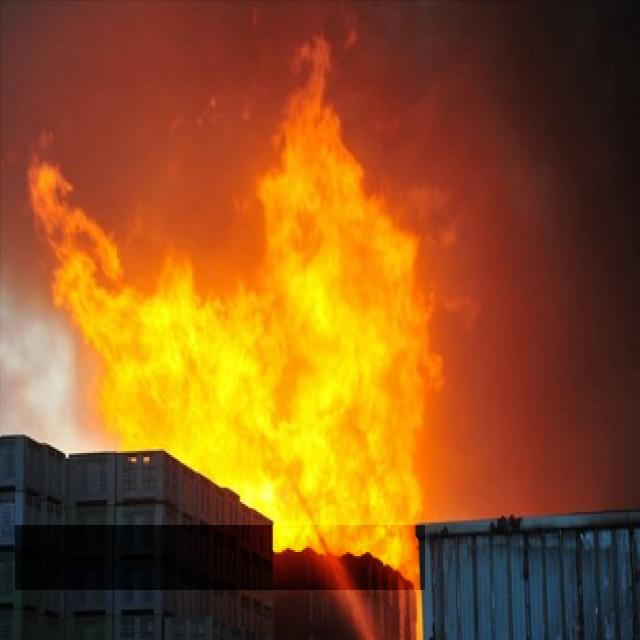Fire: (16, 83, 426, 590)
Smoke: (1, 2, 640, 526)
